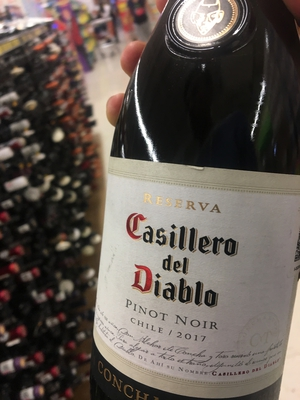casillero del diablo pinot noir: (80, 26, 300, 391)
